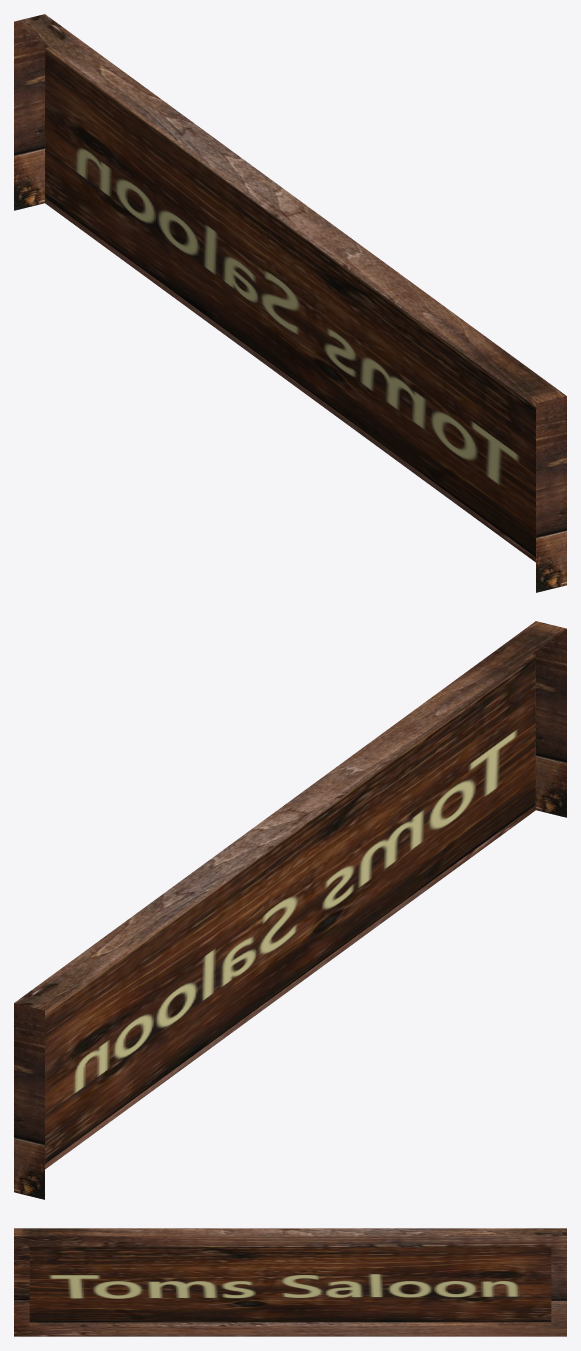
The model's file is SaloonSign 1.fbx.
3 renders of one model, top to bottom at view 1: azimuth 30°, elevation 25°; view 2: azimuth 150°, elevation 25°; view 3: azimuth 270°, elevation 25°, orthographic. The views are drawn at different scales.
Parts seen in each view (by area): view 1: SaloonSign; view 2: SaloonSign; view 3: SaloonSign.
Part boxes in pixels (<box>): SaloonSign: <box>14,14,566,592</box>; SaloonSign: <box>14,621,566,1199</box>; SaloonSign: <box>14,1228,566,1336</box>.
Bounding box in the file's own units: 24.16 × 141 × 704.
